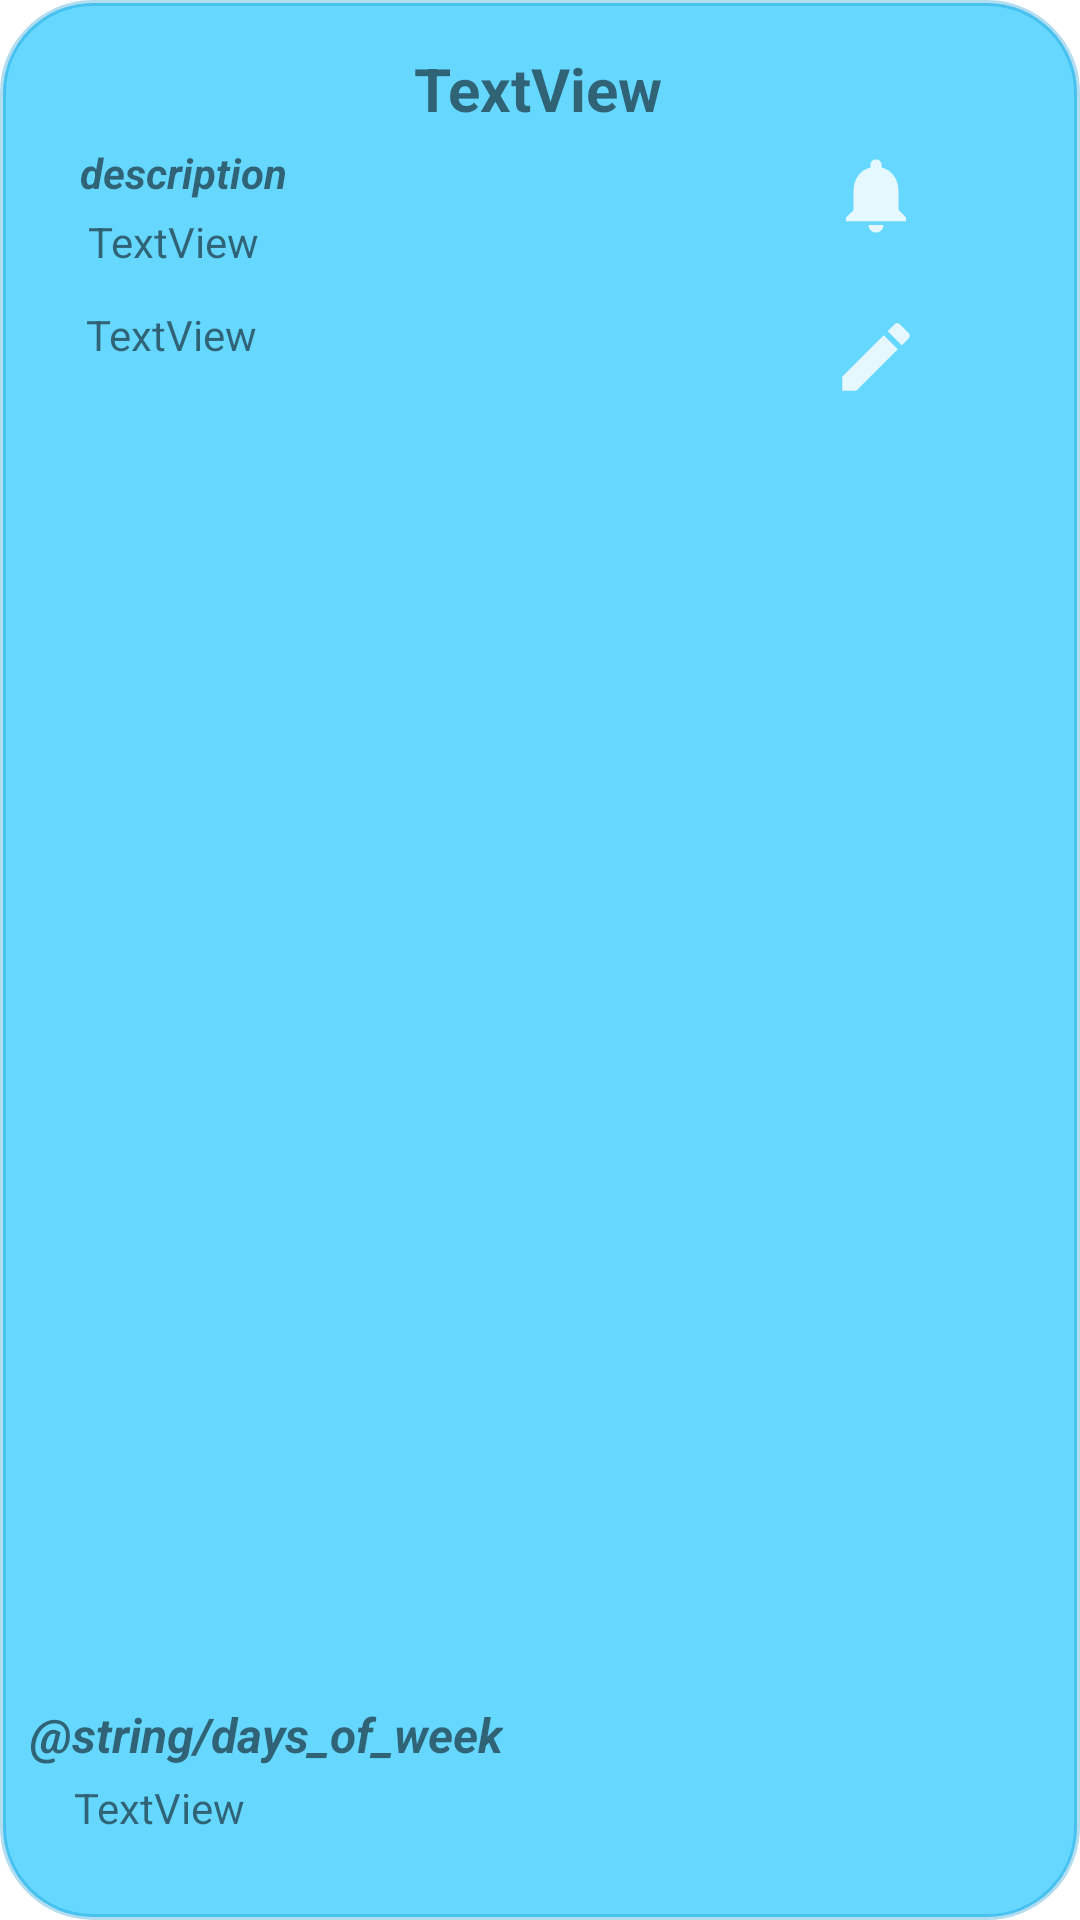

Icons on this 1080*1920 Android screen, each with its box as bbox=(x1, y1, x2, y2):
edit: bbox=(842, 323, 910, 391)
notifi: bbox=(846, 159, 906, 233)
